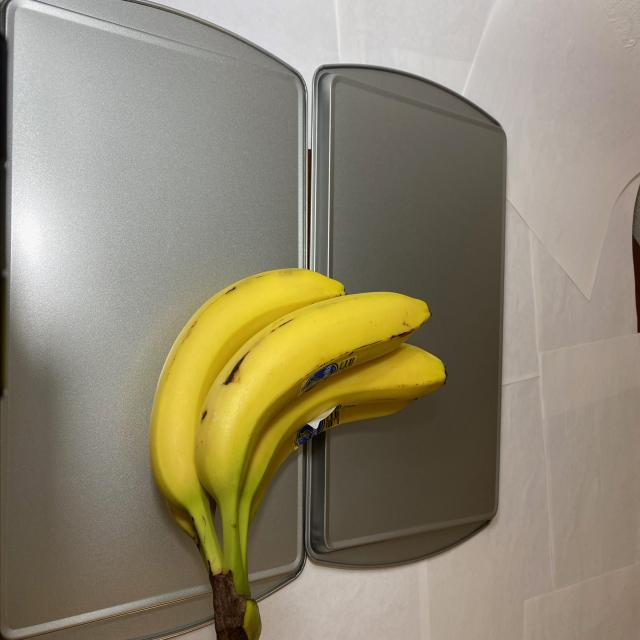banana: (145, 262, 449, 635)
